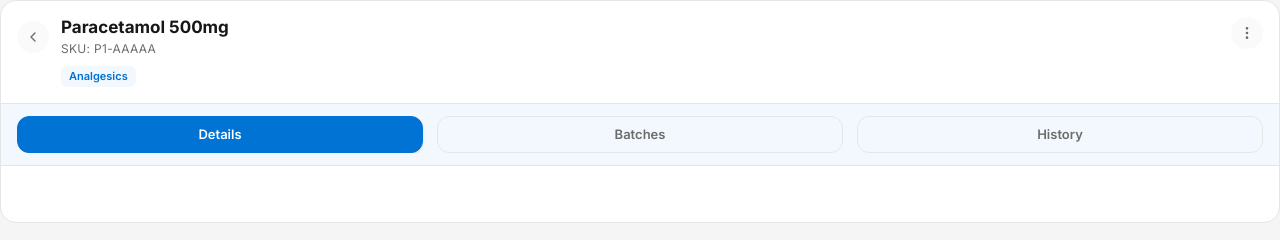
Test: Catalog detail panel delete-product permission › offers Delete Product to a user with delete_products
Press the mouse on the button named "product actions" at (1247, 33), box [1231,17,1263,49]
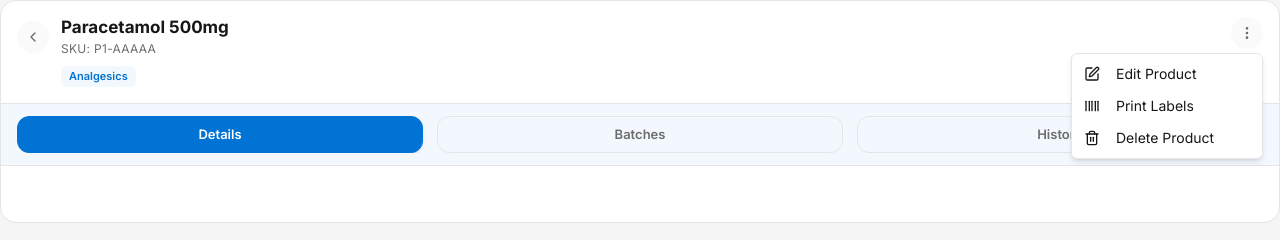
expect the menu item "Delete Product" is shown: met, box [1084,129,1214,146]
